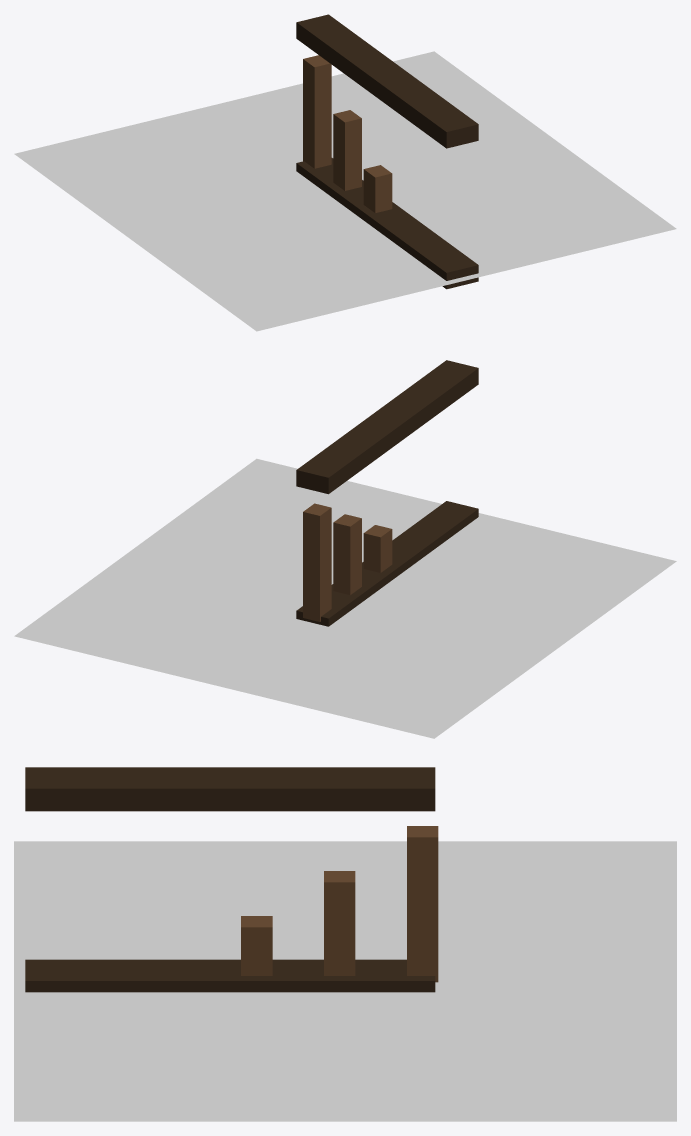
Rendered from fence2.dae.
3 renders of one model, top to bottom at view 1: azimuth 30°, elevation 25°; view 2: azimuth 150°, elevation 25°; view 3: azimuth 270°, elevation 25°, orthographic. The views are drawn at different scales.
Parts seen in each view (by area): view 1: Plane, Cube.5_0_1, Cube.5_0_0, Cube.7_0_0, Cube.7_0_1, Cube.7_0_2; view 2: Plane, Cube.5_0_1, Cube.5_0_0, Cube.7_0_0, Cube.7_0_1, Cube.7_0_2; view 3: Plane, Cube.5_0_1, Cube.5_0_0, Cube.7_0_0, Cube.7_0_1, Cube.7_0_2.
Part boxes in pixels (x1=…): Plane: x1=14, y1=51, x2=676, y2=331; Cube.5_0_1: x1=296, y1=14, x2=478, y2=148; Cube.5_0_0: x1=296, y1=158, x2=478, y2=289; Cube.7_0_0: x1=303, y1=55, x2=331, y2=168; Cube.7_0_1: x1=333, y1=110, x2=361, y2=190; Cube.7_0_2: x1=363, y1=165, x2=392, y2=213; Plane: x1=14, y1=458, x2=676, y2=738; Cube.5_0_1: x1=296, y1=360, x2=478, y2=494; Cube.5_0_0: x1=296, y1=501, x2=478, y2=626; Cube.7_0_0: x1=303, y1=503, x2=331, y2=621; Cube.7_0_1: x1=333, y1=514, x2=361, y2=595; Cube.7_0_2: x1=363, y1=525, x2=392, y2=572; Plane: x1=14, y1=841, x2=676, y2=1121; Cube.5_0_1: x1=25, y1=767, x2=435, y2=811; Cube.5_0_0: x1=25, y1=959, x2=435, y2=992; Cube.7_0_0: x1=407, y1=826, x2=438, y2=982; Cube.7_0_1: x1=324, y1=871, x2=355, y2=975; Cube.7_0_2: x1=241, y1=916, x2=272, y2=975.
Bounding box in the file's own units: 400 × 143 × 400.
